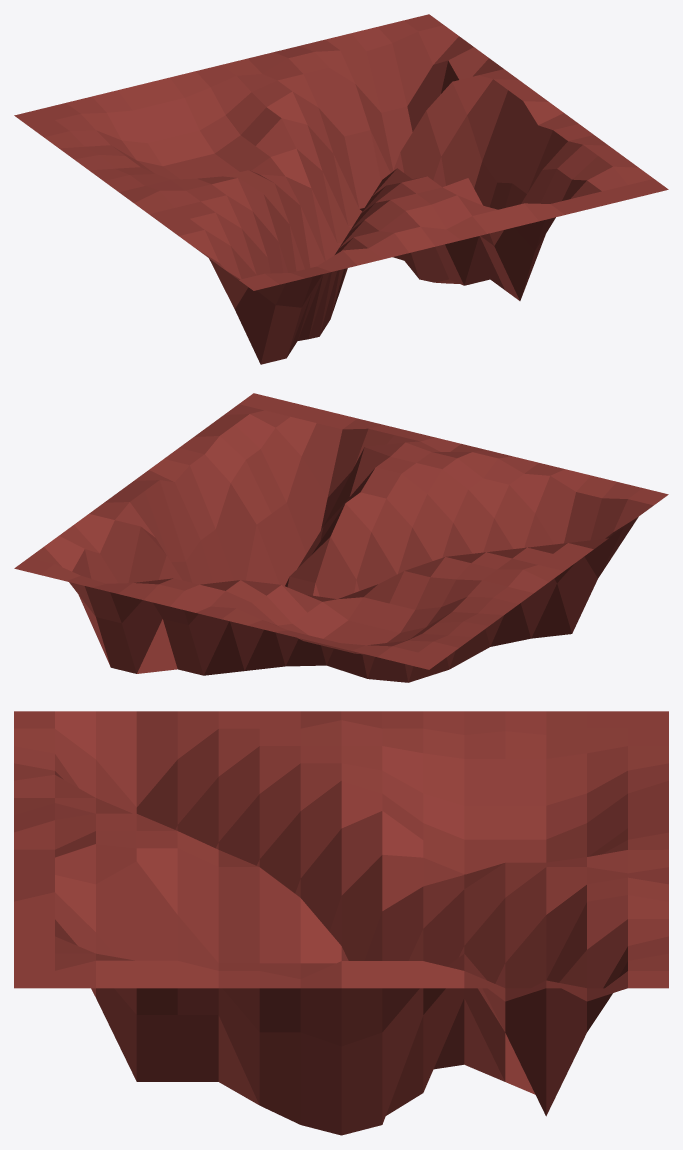
The model's file is Terrain_25_Red.fbx.
3 views of the same model, one above another, from view 1: azimuth 30°, elevation 25°; view 2: azimuth 150°, elevation 25°; view 3: azimuth 270°, elevation 25° (orthographic). The views are drawn at different scales.
Parts seen in each view (by area): view 1: Terrain_25_Red; view 2: Terrain_25_Red; view 3: Terrain_25_Red.
Boxes of the visible parts, x1,y1,x2,y2 form: Terrain_25_Red: [14, 14, 668, 364]; Terrain_25_Red: [14, 393, 668, 682]; Terrain_25_Red: [14, 711, 668, 1135].
Size of the model in its own units: 5000 by 1992 by 5000.
